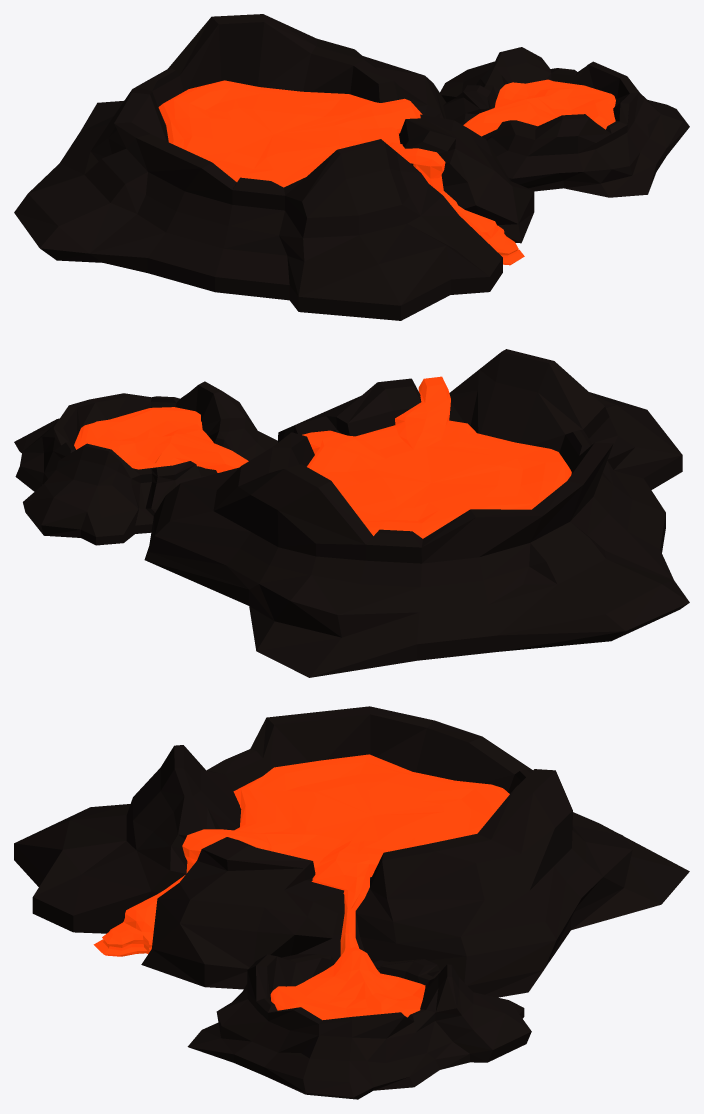
File: magma stone-double.FBX
3 renders of one model, top to bottom at view 1: azimuth 30°, elevation 25°; view 2: azimuth 150°, elevation 25°; view 3: azimuth 270°, elevation 25°, orthographic. The views are drawn at different scales.
Visible parts, largest first — view 1: Cylinder001; view 2: Cylinder001; view 3: Cylinder001.
Part boxes in pixels (box(x1,y1,x2,y2)): Cylinder001: box(14, 14, 689, 320); Cylinder001: box(14, 349, 689, 677); Cylinder001: box(14, 706, 689, 1099).
Size of the model in its own units: 107 by 19.99 by 90.69.
